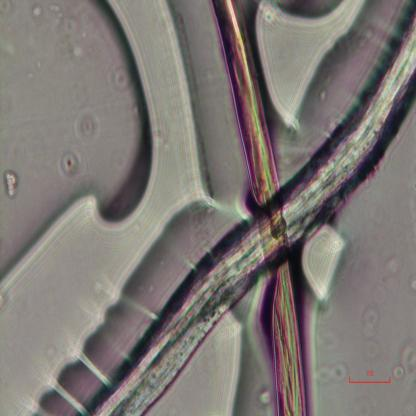Air bubble: (0, 0, 206, 414), (250, 2, 368, 132), (298, 226, 348, 298)
Background material: (359, 306, 384, 362), (56, 148, 86, 181), (393, 341, 416, 384), (311, 362, 349, 384), (0, 168, 20, 199)
Microfibre: (91, 6, 416, 415), (211, 0, 307, 414)
